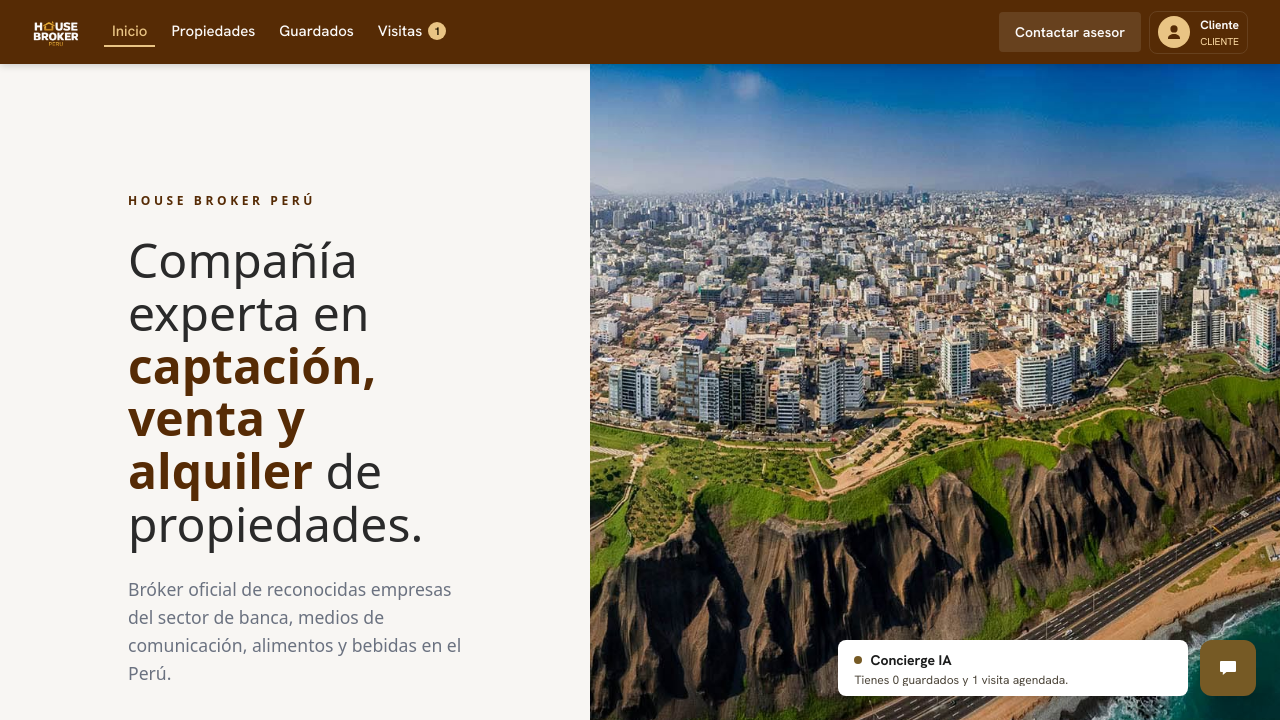
App: confirmación simulada de visitas › abrir y cancelar desde catálogo conserva las visitas existentes
Click the button "Propiedades" at (213, 32), box [164,17,263,47]
(page scrolled)
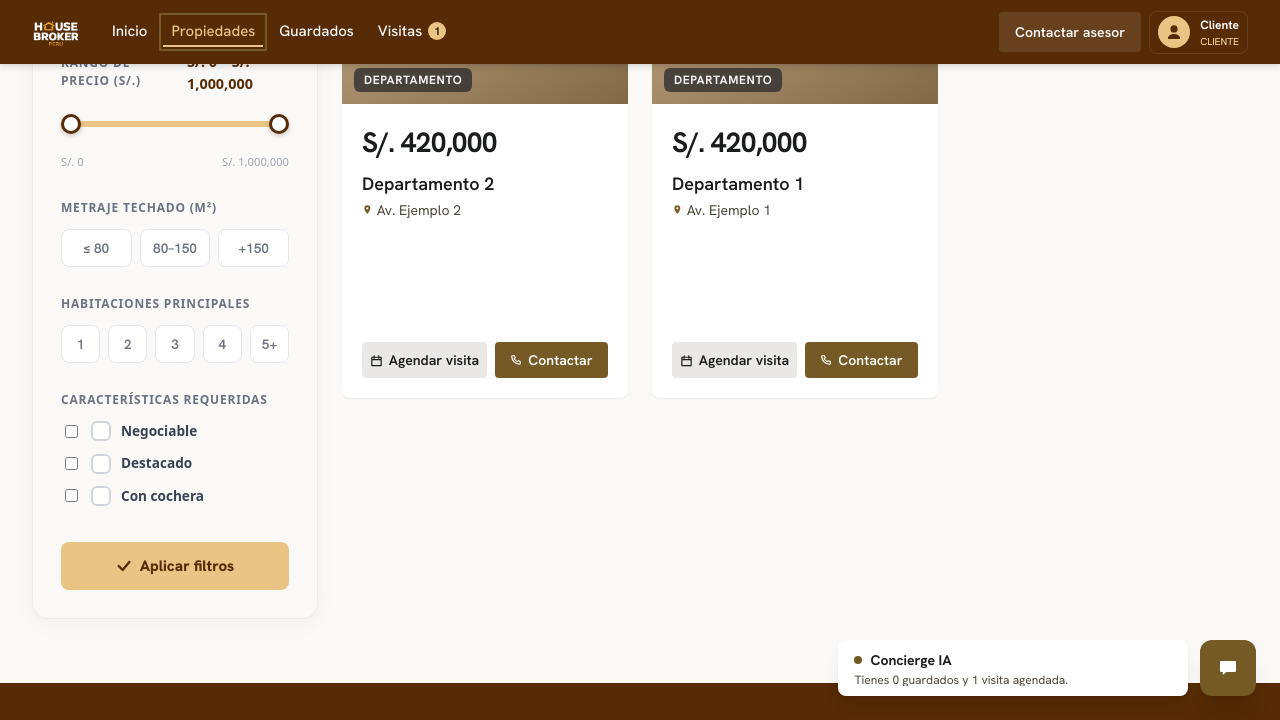
Click the button "Agendar visita" below "Av. Ejemplo 1" at (734, 360), box [672,342,797,378]
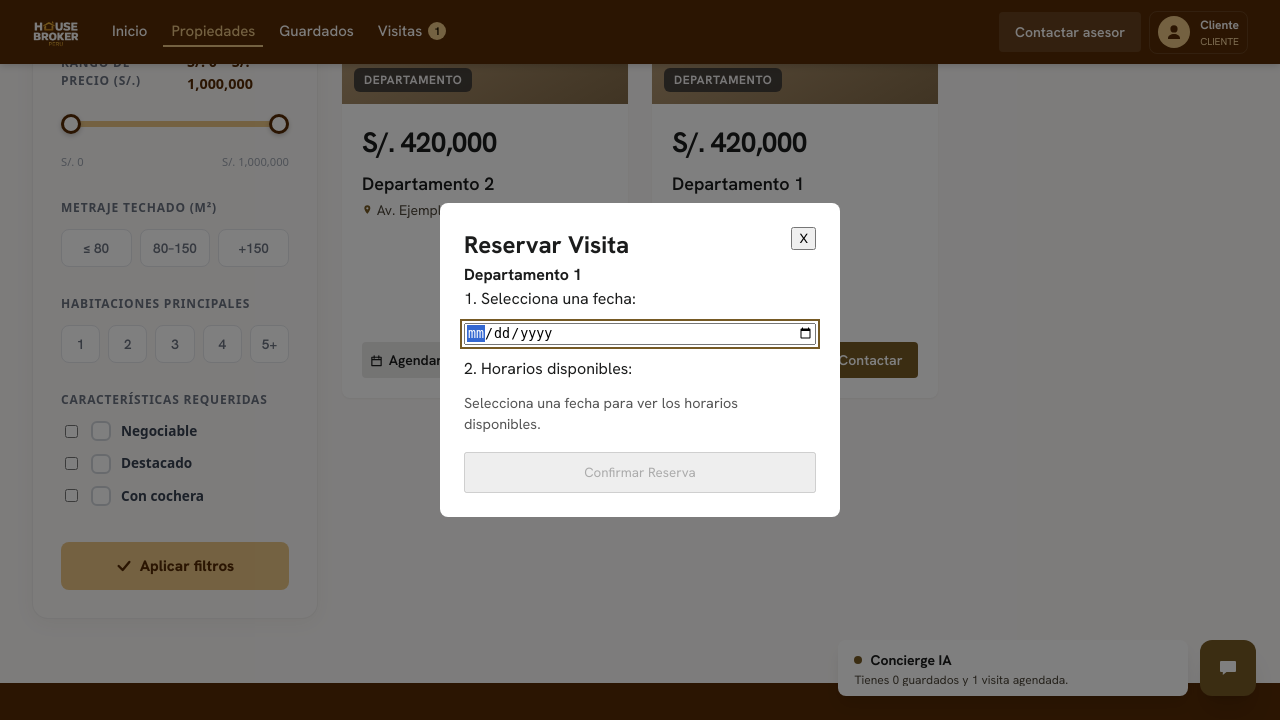
Expected: the heading "Reservar Visita" is shown, [464,229,629,260]
Expected: the button "Confirmar Reserva" is disabled, [464,452,816,493]
Type "2026-12-10" into the date field labelled "1. Selecciona una fecha:" at (640, 334), box [464,323,816,344]
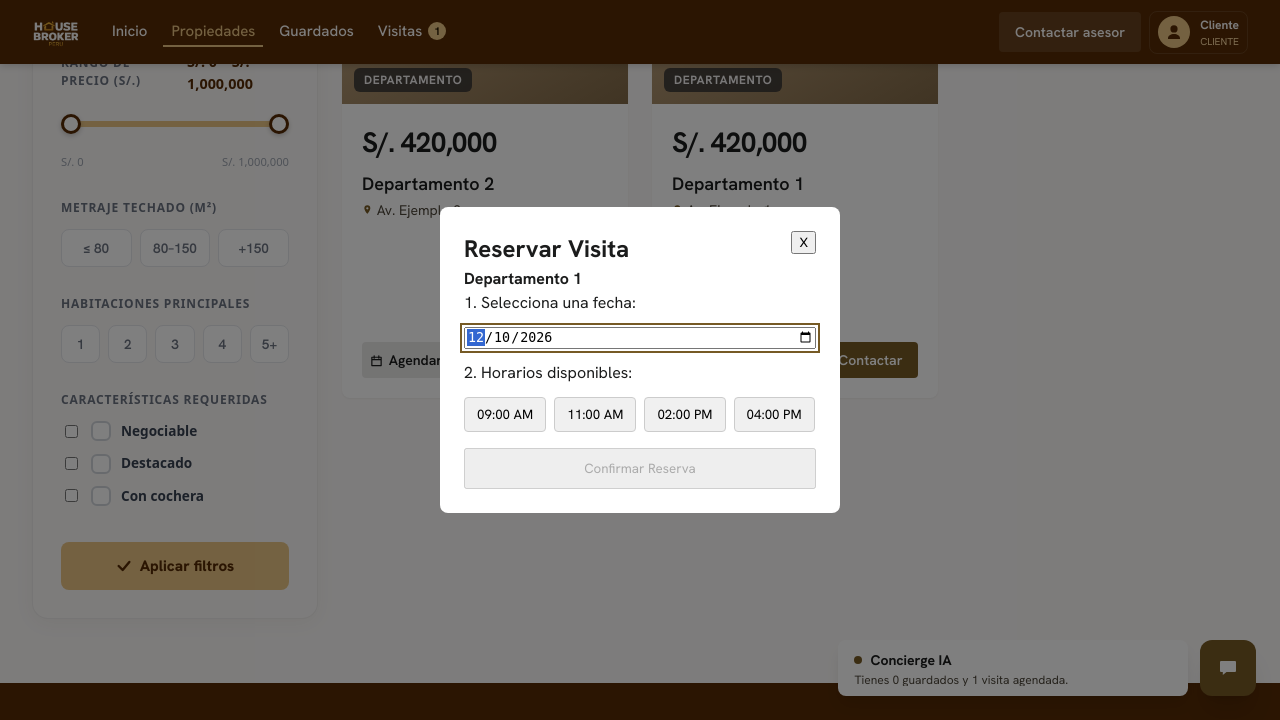
Click the option "09:00 AM" at (505, 414), box [464,397,546,432]
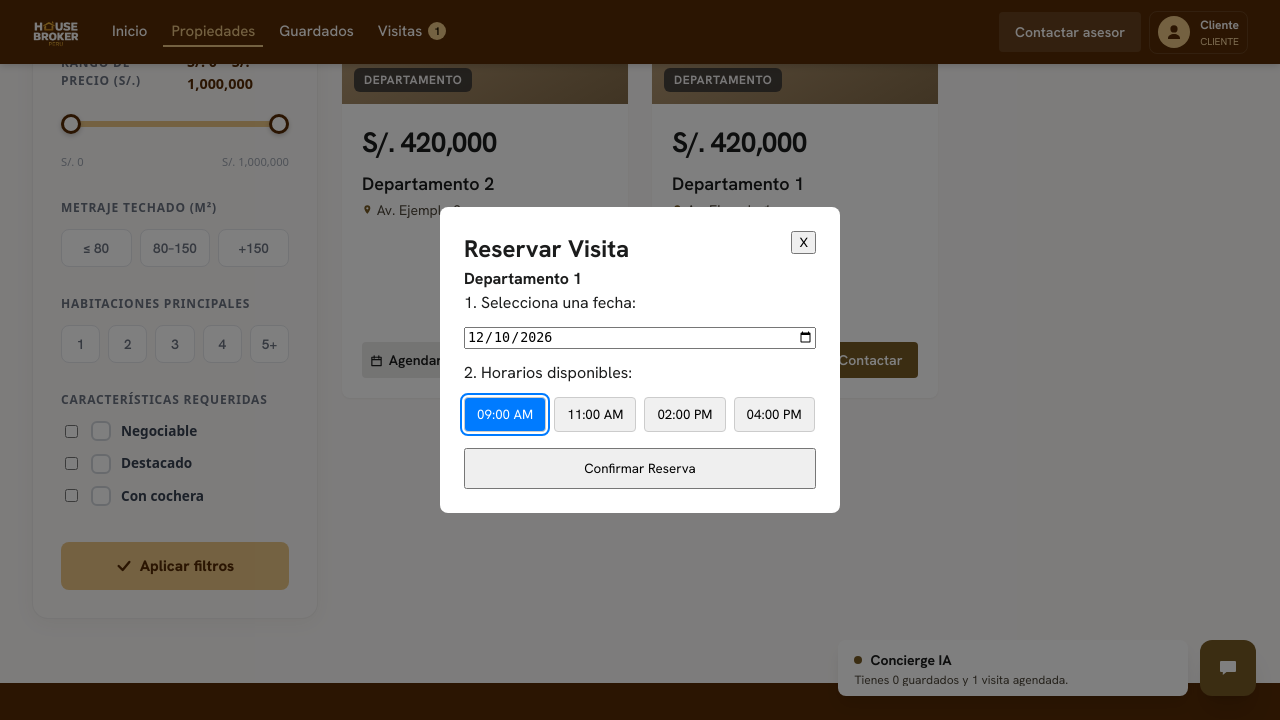
Click the button named "Cerrar" at (804, 243), box [792,231,816,254]
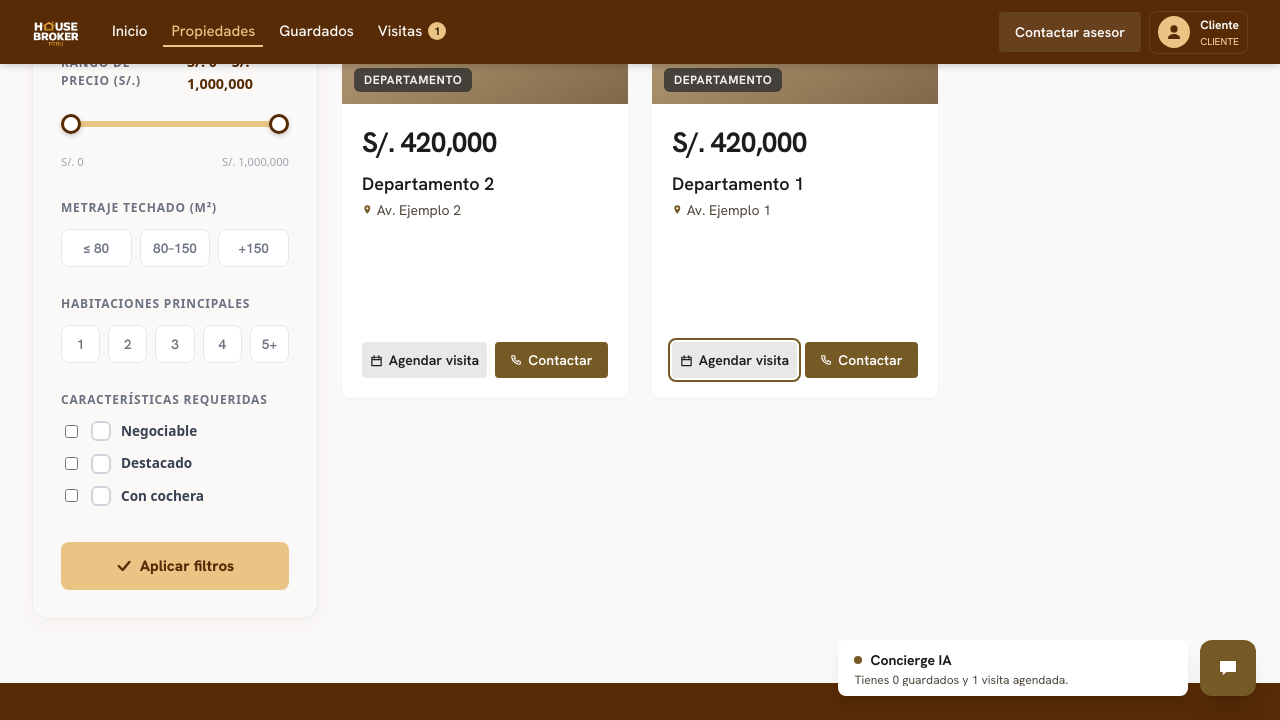
Expected: the heading "Reservar Visita" is gone
Click the button "Agendar visita" below "Av. Ejemplo 1" at (734, 360), box [672,342,797,378]
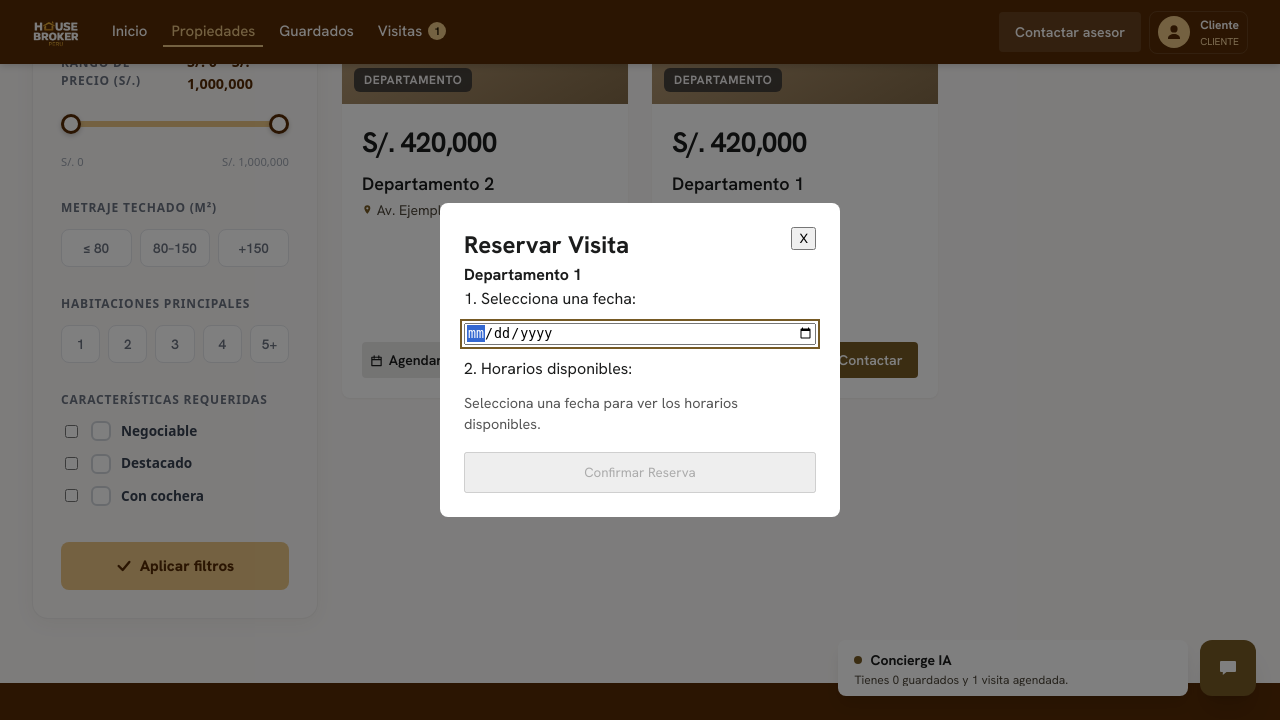
Expected: the heading "Reservar Visita" is shown, [464,229,629,260]
Expected: the date field labelled "1. Selecciona una fecha:" is empty, [464,323,816,344]
Expected: the button "Confirmar Reserva" is disabled, [464,452,816,493]
